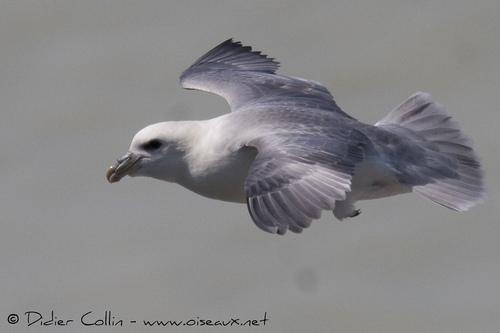bird: (99, 37, 480, 233)
